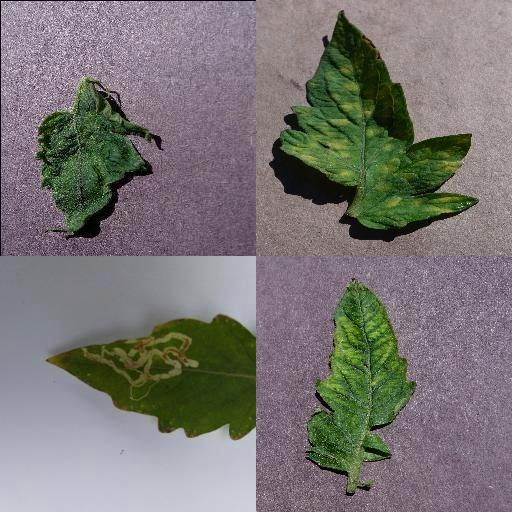Leaf Miner: (46, 312, 256, 441)
Leaf Mold: (282, 9, 480, 229)
Mosaic Virus: (306, 276, 418, 474), (33, 85, 155, 237)
